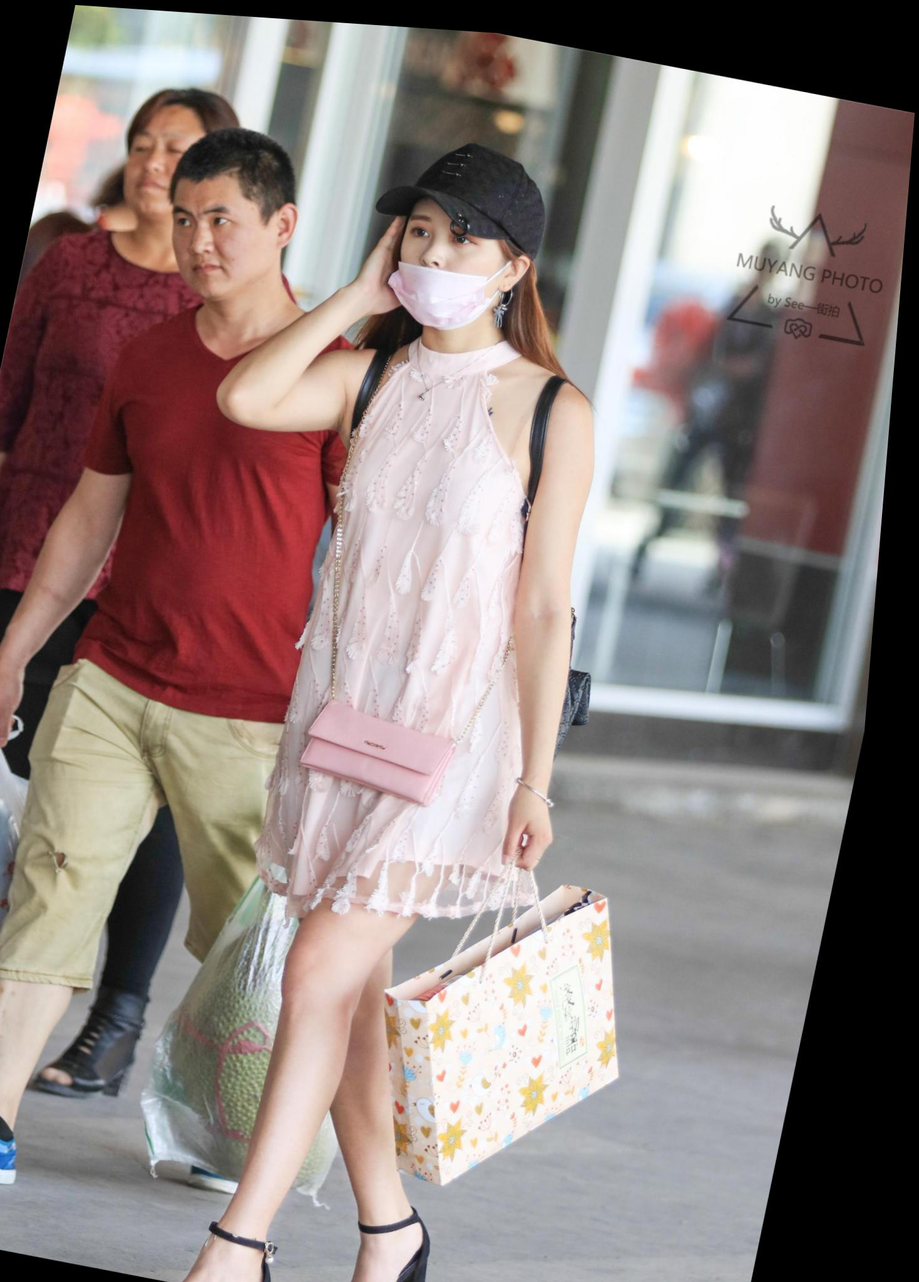NONE: (158, 178, 293, 307), (118, 116, 226, 218)
WRONG: (385, 193, 521, 332)
